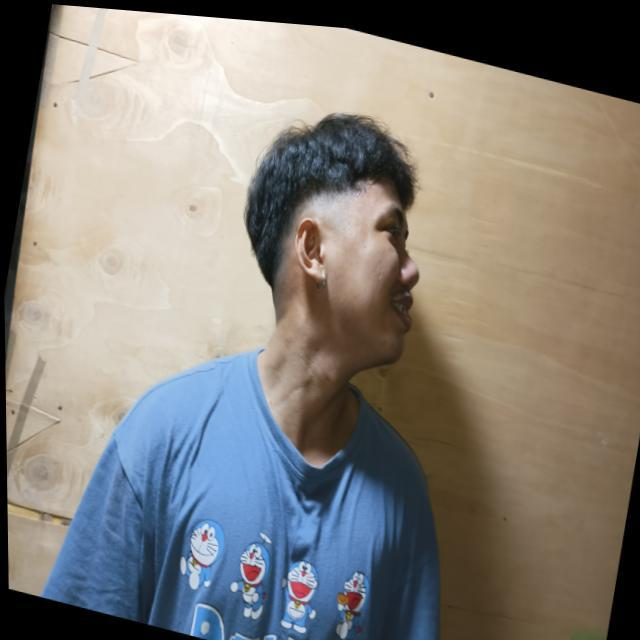Nonhelmet: (227, 109, 443, 378)
